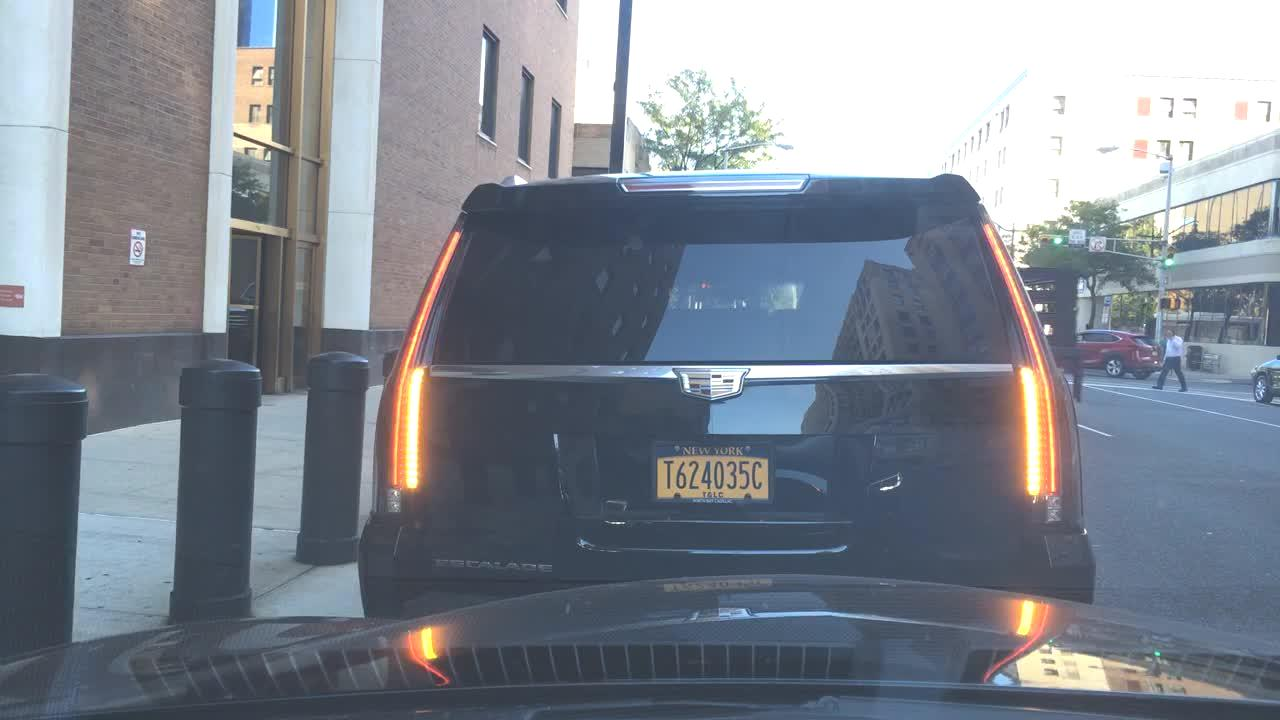cadillac: (671, 363, 752, 403)
